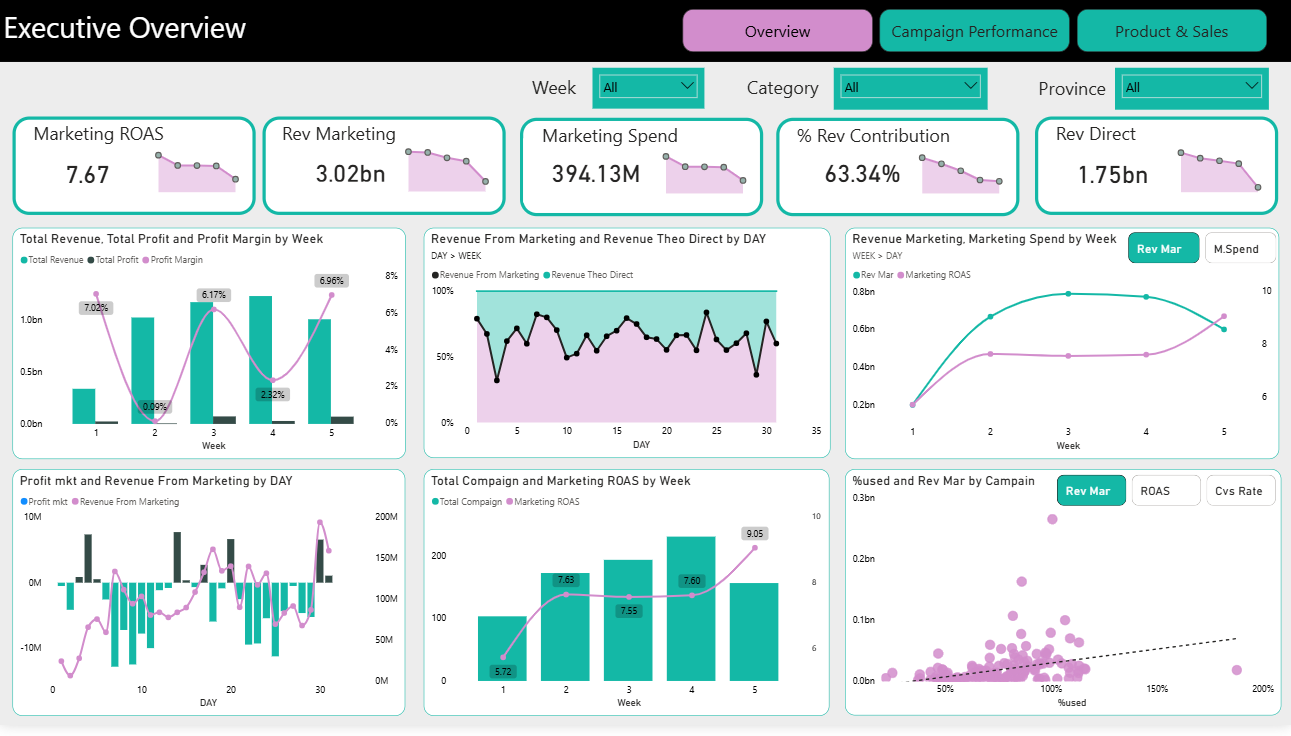

What the dashboard file says about the page in this screenshot:
{"tool":"powerbi","page":{"name":"Overview","canvas":[1920,1080],"ordinal":0},"visuals":[{"type":"textbox","box":[0,0,1920.4,94],"z":0},{"type":"slicer","fields":{"Values":["order.Thành phố"]},"box":[1657.5,101.9,228.4,62.3],"z":0,"group":"g10"},{"type":"textbox","box":[787,107.1,111.4,47.2],"z":0,"group":"g9"},{"type":"textbox","box":[1106.6,107.1,156.7,47.2],"z":0,"group":"g11"},{"type":"shape","box":[391.5,175.6,361.6,146.6],"z":0,"group":"g2"},{"type":"shape","box":[1539.1,175.6,361.6,146.6],"z":0,"group":"g5"},{"type":"group","id":"g1","title":"Group 1","box":[18.9,176.2,361.6,146.6],"z":0,"group":"g8"},{"type":"shape","box":[18.9,176.2,361.6,146.6],"z":0,"group":"g1"},{"type":"shape","box":[773,177.5,361.6,146.6],"z":0,"group":"g3"},{"type":"shape","box":[1153.9,177.5,361.6,146.6],"z":0,"group":"g4"},{"type":"lineChart","title":"Revenue Marketing, Marketing Spend by Week","fields":{"Y":["Measure.Revenue From Marketing"],"Category":["Dim_Date.DAY","Dim_Date.Week"],"Y2":["Measure.Marketing ROAS"]},"box":[1255.9,340.3,645.7,343.8],"z":0,"group":"g6"},{"type":"scatterChart","fields":{"Y":["Measure.Revenue From Marketing"],"Category":["mkt_camp_cost.Tên chiến dịch"],"X":["Measure.%used"]},"box":[1255.8,698.5,648.9,366.4],"z":0,"group":"g7"},{"type":"textbox","box":[0,7.4,372.3,79.2],"z":1000},{"type":"slicer","fields":{"Values":["Dim_Date.Week"]},"box":[881.4,101.4,166.1,60.4],"z":1000,"group":"g9"},{"type":"slicer","fields":{"Values":["danh sach san pham.Danh mục"]},"box":[1240.6,101.4,228.4,62.3],"z":1000,"group":"g11"},{"type":"textbox","box":[1538.6,109.5,156.7,47.2],"z":1000,"group":"g10"},{"type":"group","id":"g2","title":"Group 1","box":[391.5,175.6,361.4,147.3],"z":1000,"group":"g8"},{"type":"cardVisual","fields":{"Data":["Measure.Marketing ROAS"]},"box":[50.8,198.7,208.5,117.1],"z":1000,"group":"g1"},{"type":"cardVisual","fields":{"Data":["Measure.% Revenue Contribution"]},"box":[1177.3,199.3,220.4,113.3],"z":1000,"group":"g4"},{"type":"cardVisual","fields":{"Data":["Measure.Revenue Theo Direct"]},"box":[1554.1,199.3,230.3,115.2],"z":1000,"group":"g5"},{"type":"cardVisual","fields":{"Data":["Measure.Marketing Spend"]},"box":[772.7,204.3,240.2,105.7],"z":1000,"group":"g3"},{"type":"cardVisual","fields":{"Data":["Measure.Revenue From Marketing"]},"box":[422.6,204.7,209.9,102.4],"z":1000,"group":"g2"},{"type":"advancedSlicerVisual","fields":{"Values":["Parameter_page1.Parameter_page1"]},"box":[1671.4,341.6,230.3,56.6],"z":1000,"group":"g6"},{"type":"advancedSlicerVisual","fields":{"Values":["Parameter.Parameter"]},"box":[1565.6,703,336.6,56.1],"z":1000,"group":"g7"},{"type":"pageNavigator","box":[1015.5,14.7,871.7,64.5],"z":2000},{"type":"group","id":"g3","title":"Group 1","box":[772.7,177.5,361.4,147.3],"z":2000,"group":"g8"},{"type":"lineChart","fields":{"Category":["Dim_Date.Week"],"Y":["Measure.Revenue From Marketing"]},"box":[591.8,209.2,147.6,84.3],"z":2000,"group":"g2"},{"type":"lineChart","fields":{"Category":["Dim_Date.Week"],"Y":["Measure.Revenue Theo Direct"]},"box":[1739.4,209.2,147.6,84.3],"z":2000,"group":"g5"},{"type":"lineChart","fields":{"Category":["Dim_Date.Week"],"Y":["Measure.Marketing ROAS"]},"box":[219.2,209.8,147.6,84.3],"z":2000,"group":"g1"},{"type":"lineChart","fields":{"Category":["Dim_Date.Week"],"Y":["Measure.Marketing ROAS"]},"box":[973.3,211.1,147.6,84.3],"z":2000,"group":"g3"},{"type":"lineChart","fields":{"Category":["Dim_Date.Week"],"Y":["Measure.% Revenue Contribution"]},"box":[1354.2,211.1,147.6,84.3],"z":2000,"group":"g4"},{"type":"textbox","box":[415,177.3,237.9,54.3],"z":3000,"group":"g2"},{"type":"textbox","box":[1565.8,177.3,234.1,54.3],"z":3000,"group":"g5"},{"type":"group","id":"g4","title":"Group 1","box":[1153.9,177.5,361.4,147.3],"z":3000,"group":"g8"},{"type":"textbox","box":[45.6,177.9,234.1,54.3],"z":3000,"group":"g1"},{"type":"textbox","box":[1179.3,178.7,266.1,54.7],"z":3000,"group":"g4"},{"type":"textbox","box":[799.7,179.2,234.1,54.3],"z":3000,"group":"g3"},{"type":"hundredPercentStackedAreaChart","fields":{"Y":["Measure.Revenue From Marketing","Measure.Revenue Theo Direct"],"Category":["Dim_Date.DAY","Dim_Date.Week"]},"box":[629.8,340.2,604.4,342],"z":3000},{"type":"group","id":"g5","title":"Group 1","box":[1539.1,175.6,361.6,146.6],"z":4000,"group":"g8"},{"type":"lineClusteredColumnComboChart","fields":{"Category":["Dim_Date.DAY"],"Y":["Measure.Profit mkt"],"Y2":["Measure.Revenue From Marketing"]},"box":[18.8,699.1,584.3,367.3],"z":4000},{"type":"lineClusteredColumnComboChart","fields":{"Category":["Dim_Date.Week"],"Y":["Measure.Total Revenue","Measure.Total Profit"],"Y2":["Measure.Net Profit"]},"box":[18.1,340.2,584.5,343.8],"z":5000},{"type":"group","id":"g6","title":"Chart 2","box":[1255.9,340.3,645.8,343.8],"z":6000},{"type":"lineClusteredColumnComboChart","fields":{"Category":["Dim_Date.Week"],"Y2":["Measure.Marketing ROAS"],"Y":["Measure.Total Compain"]},"box":[630.3,699.1,603.1,367.3],"z":7000},{"type":"group","id":"g7","title":"chart cuối","box":[1255.8,698.5,648.9,366.4],"z":8000},{"type":"group","id":"g8","title":"Group 2","box":[18.9,175.6,1882.2,149.1],"z":9000},{"type":"group","id":"g9","title":"Week","box":[787,101.4,260.1,61.7],"z":10000},{"type":"group","id":"g10","title":"Province","box":[1538.6,101.9,347.4,62.3],"z":11000},{"type":"group","id":"g11","title":"Category","box":[1106.6,101.4,363.7,61.7],"z":12000}]}

Visuals, with their boxes in screenshot pixels (x1, y1, x2, y2), scaled from the page's 1920x1080 canvas onto the 1291x736 screenshot:
textbox: <bbox>0, 0, 1290, 64</bbox>
slicer - order.Thành phố: <bbox>1114, 69, 1268, 112</bbox>
textbox: <bbox>529, 73, 604, 105</bbox>
textbox: <bbox>744, 73, 849, 105</bbox>
shape: <bbox>263, 120, 506, 220</bbox>
shape: <bbox>1035, 120, 1278, 220</bbox>
"Group 1" group: <bbox>13, 120, 256, 220</bbox>
shape: <bbox>13, 120, 256, 220</bbox>
shape: <bbox>520, 121, 763, 221</bbox>
shape: <bbox>776, 121, 1019, 221</bbox>
"Revenue Marketing, Marketing Spend by Week" lineChart: <bbox>844, 232, 1279, 466</bbox>
scatterChart - Measure.Revenue From Marketing x mkt_camp_cost.Tên chiến dịch: <bbox>844, 476, 1281, 726</bbox>
textbox: <bbox>0, 5, 250, 59</bbox>
slicer - Dim_Date.Week: <bbox>593, 69, 704, 110</bbox>
slicer - danh sach san pham.Danh mục: <bbox>834, 69, 988, 112</bbox>
textbox: <bbox>1035, 75, 1140, 107</bbox>
"Group 1" group: <bbox>263, 120, 506, 220</bbox>
cardVisual - Measure.Marketing ROAS: <bbox>34, 135, 174, 215</bbox>
cardVisual - Measure.% Revenue Contribution: <bbox>792, 136, 940, 213</bbox>
cardVisual - Measure.Revenue Theo Direct: <bbox>1045, 136, 1200, 214</bbox>
cardVisual - Measure.Marketing Spend: <bbox>520, 139, 681, 211</bbox>
cardVisual - Measure.Revenue From Marketing: <bbox>284, 139, 425, 209</bbox>
advancedSlicerVisual - Parameter_page1.Parameter_page1: <bbox>1124, 233, 1279, 271</bbox>
advancedSlicerVisual - Parameter.Parameter: <bbox>1053, 479, 1279, 517</bbox>
pageNavigator: <bbox>683, 10, 1269, 54</bbox>
"Group 1" group: <bbox>520, 121, 763, 221</bbox>
lineChart - Dim_Date.Week x Measure.Revenue From Marketing: <bbox>398, 143, 497, 200</bbox>
lineChart - Dim_Date.Week x Measure.Revenue Theo Direct: <bbox>1170, 143, 1269, 200</bbox>
lineChart - Dim_Date.Week x Measure.Marketing ROAS: <bbox>147, 143, 247, 200</bbox>
lineChart - Dim_Date.Week x Measure.Marketing ROAS: <bbox>654, 144, 754, 201</bbox>
lineChart - Dim_Date.Week x Measure.% Revenue Contribution: <bbox>911, 144, 1010, 201</bbox>
textbox: <bbox>279, 121, 439, 158</bbox>
textbox: <bbox>1053, 121, 1210, 158</bbox>
"Group 1" group: <bbox>776, 121, 1019, 221</bbox>
textbox: <bbox>31, 121, 188, 158</bbox>
textbox: <bbox>793, 122, 972, 159</bbox>
textbox: <bbox>538, 122, 695, 159</bbox>
hundredPercentStackedAreaChart - Measure.Revenue From Marketing x Measure.Revenue Theo Direct: <bbox>423, 232, 830, 465</bbox>
"Group 1" group: <bbox>1035, 120, 1278, 220</bbox>
lineClusteredColumnComboChart - Dim_Date.DAY x Measure.Profit mkt: <bbox>13, 476, 406, 727</bbox>
lineClusteredColumnComboChart - Dim_Date.Week x Measure.Total Revenue: <bbox>12, 232, 405, 466</bbox>
"Chart 2" group: <bbox>844, 232, 1279, 466</bbox>
lineClusteredColumnComboChart - Dim_Date.Week x Measure.Marketing ROAS: <bbox>424, 476, 829, 727</bbox>
"chart cuối" group: <bbox>844, 476, 1281, 726</bbox>
"Group 2" group: <bbox>13, 120, 1278, 221</bbox>
"Week" group: <bbox>529, 69, 704, 111</bbox>
"Province" group: <bbox>1035, 69, 1268, 112</bbox>
"Category" group: <bbox>744, 69, 989, 111</bbox>
